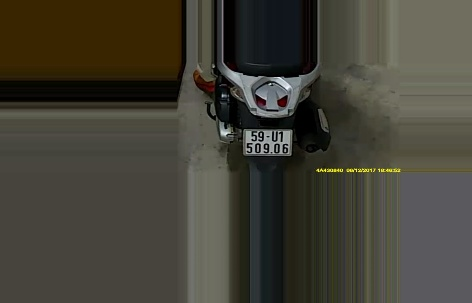plate: (243, 127, 293, 157)
